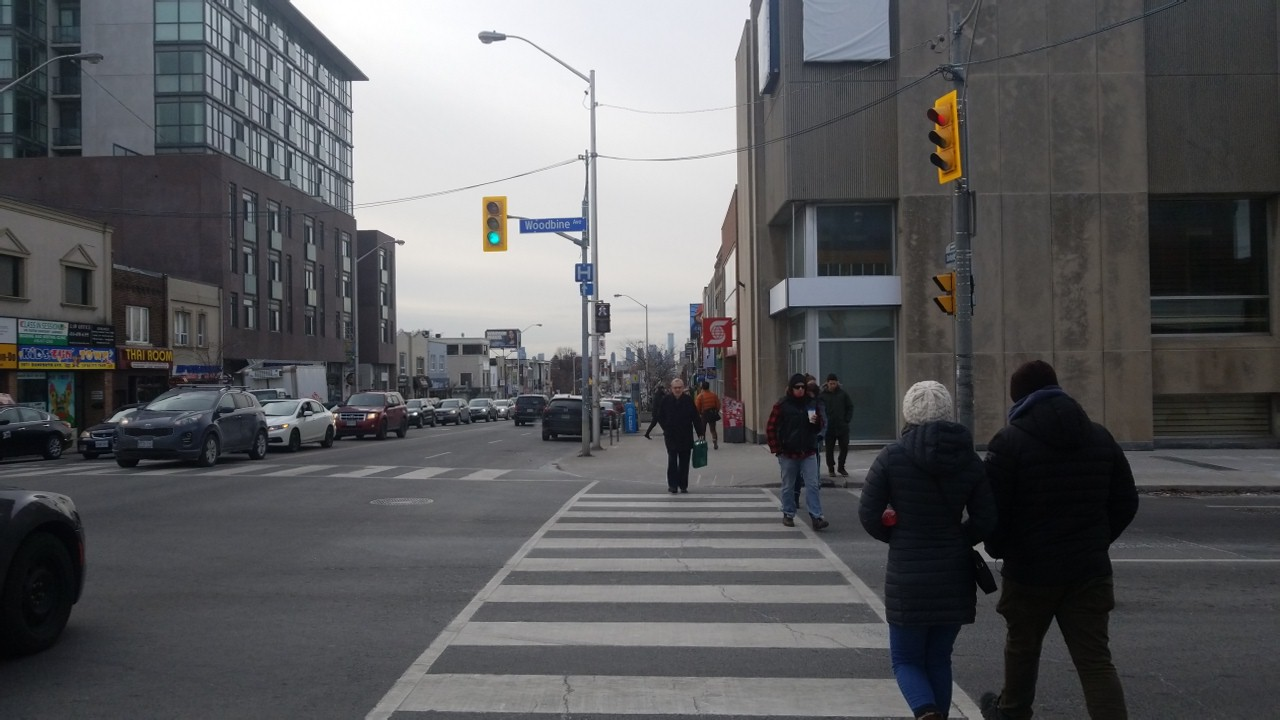light: (592, 300, 613, 337)
